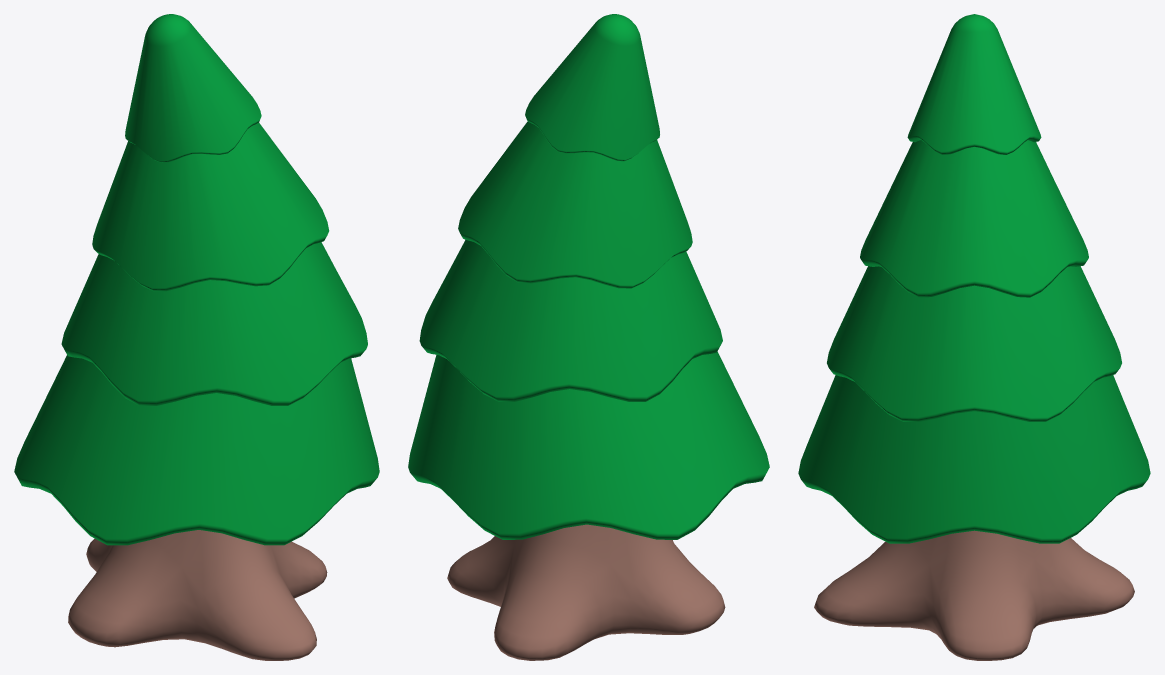
Rendered from Town_3_Tree_2.glb.
3 views of the same model, side by side, from view 1: azimuth 30°, elevation 25°; view 2: azimuth 150°, elevation 25°; view 3: azimuth 270°, elevation 25° (orthographic). The views are drawn at different scales.
Visible parts, largest first — view 1: Town_3_Tree_2; view 2: Town_3_Tree_2; view 3: Town_3_Tree_2.
Boxes of the visible parts, x1=… form: Town_3_Tree_2: x1=14, y1=14, x2=379, y2=660; Town_3_Tree_2: x1=408, y1=14, x2=769, y2=660; Town_3_Tree_2: x1=798, y1=14, x2=1150, y2=660.
Bounding box in the file's own units: 1.23 × 2.32 × 1.27.
1 material, 1 textured.
